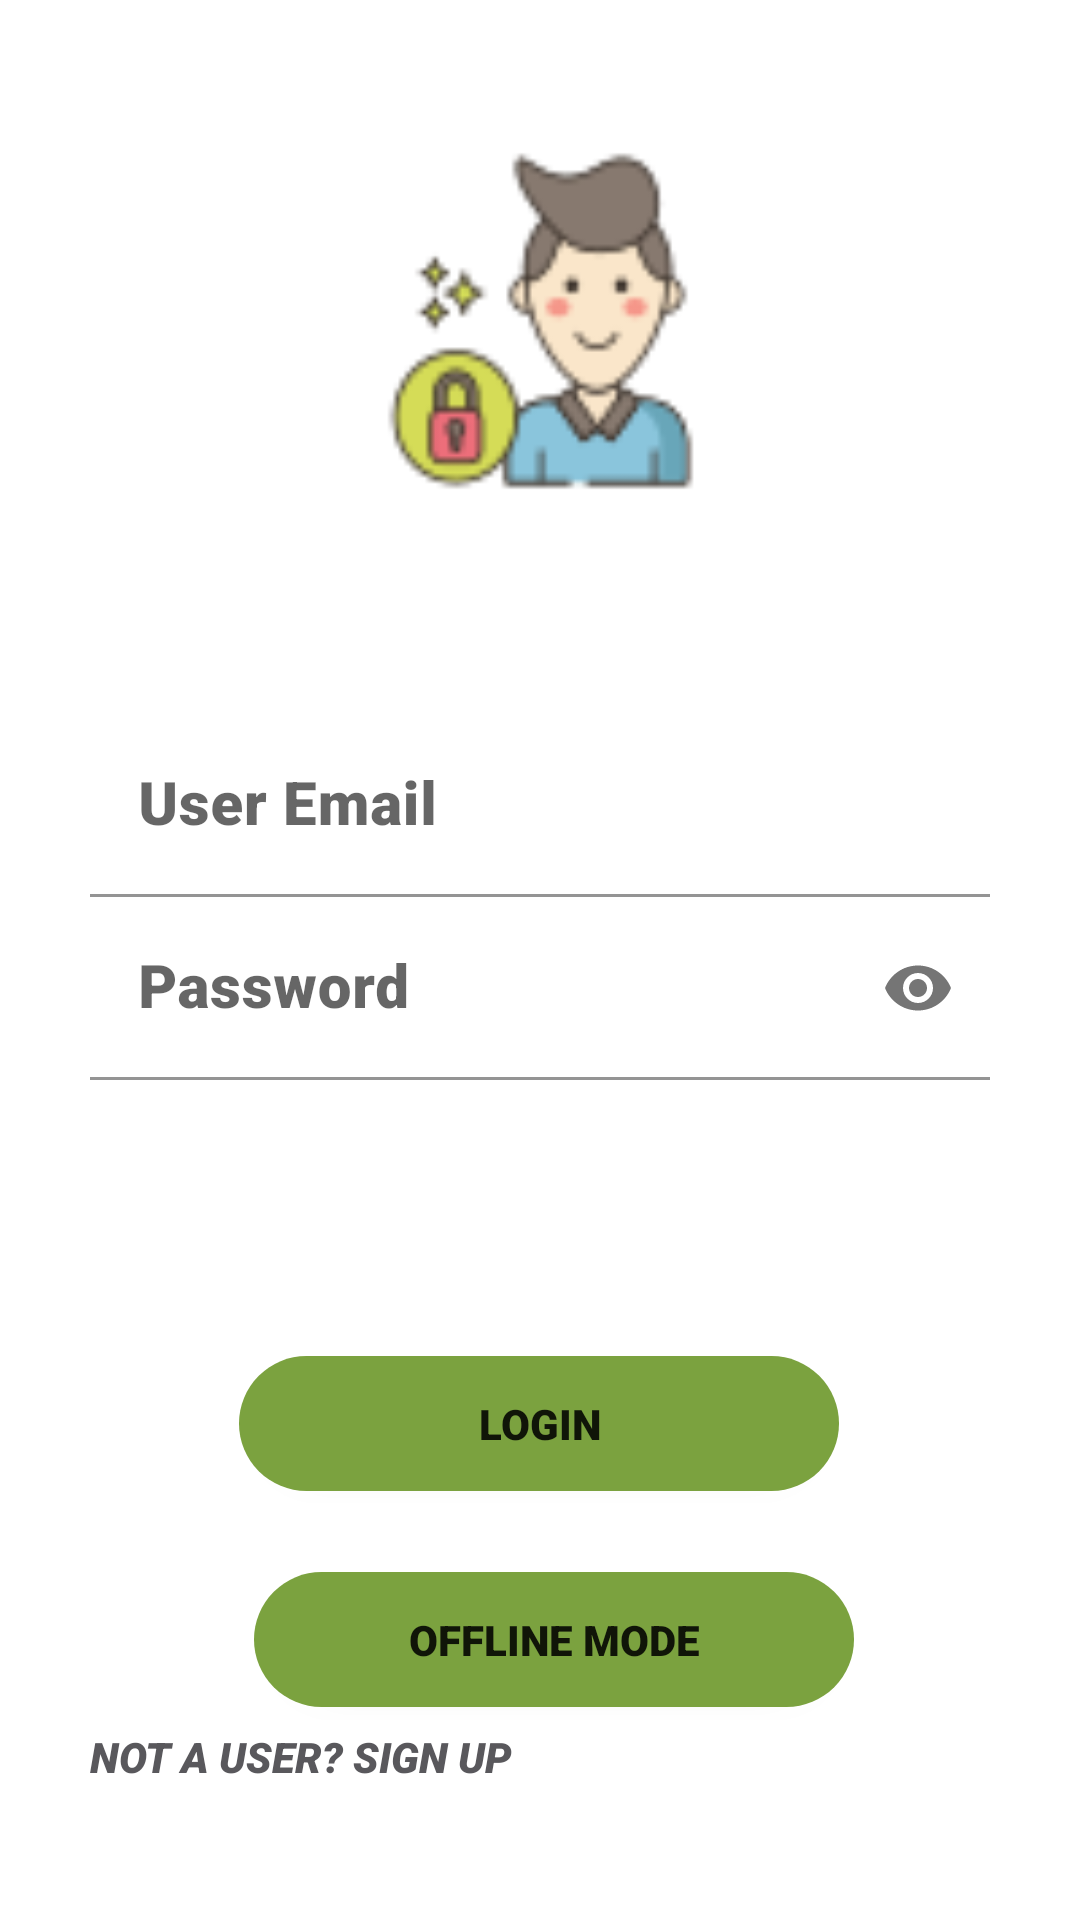

Point at icon controls on the screen. Image size 1080×1920, points as (x,y).
login: (541,321)
